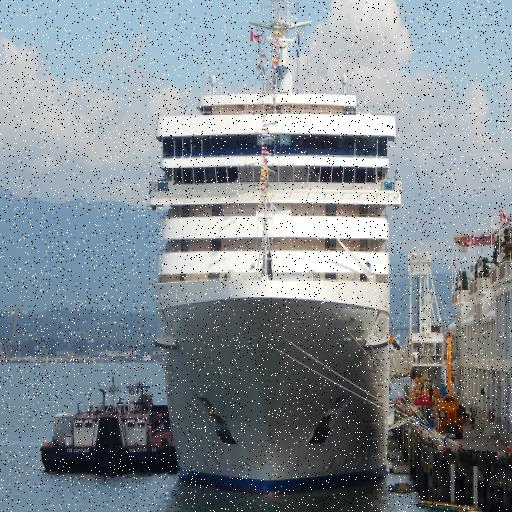cruises: (146, 1, 407, 511)
